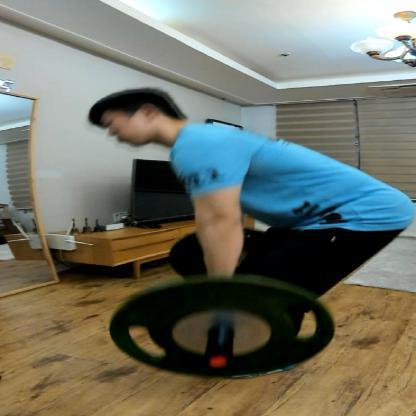barbell: (106, 224, 337, 380)
